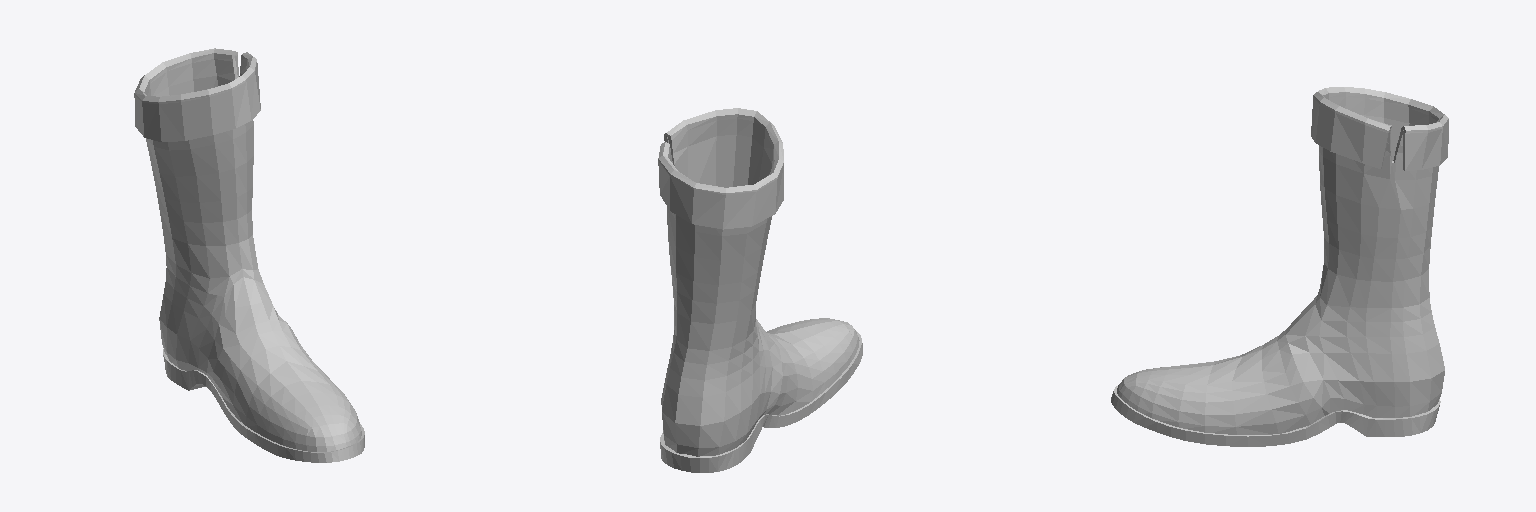
The model's file is botte_gauche.obj.
3 renders of one model, left to right at view 1: azimuth 30°, elevation 25°; view 2: azimuth 150°, elevation 25°; view 3: azimuth 270°, elevation 25°, orthographic.
Visible parts, largest first — view 1: Soi_SimpleArmor_Boots.003_Plane.019; view 2: Soi_SimpleArmor_Boots.003_Plane.019; view 3: Soi_SimpleArmor_Boots.003_Plane.019.
Part boxes in pixels (x1,y1,x2,y2): Soi_SimpleArmor_Boots.003_Plane.019: (134,48,364,462); Soi_SimpleArmor_Boots.003_Plane.019: (658,108,862,472); Soi_SimpleArmor_Boots.003_Plane.019: (1111,87,1448,446).
Size of the model in its own units: 0.1501 by 0.3778 by 0.3565.